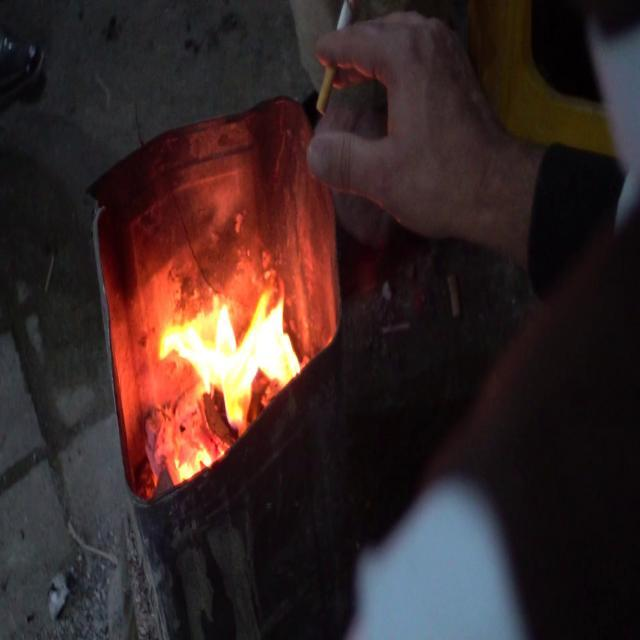Fire: (150, 283, 302, 441)
